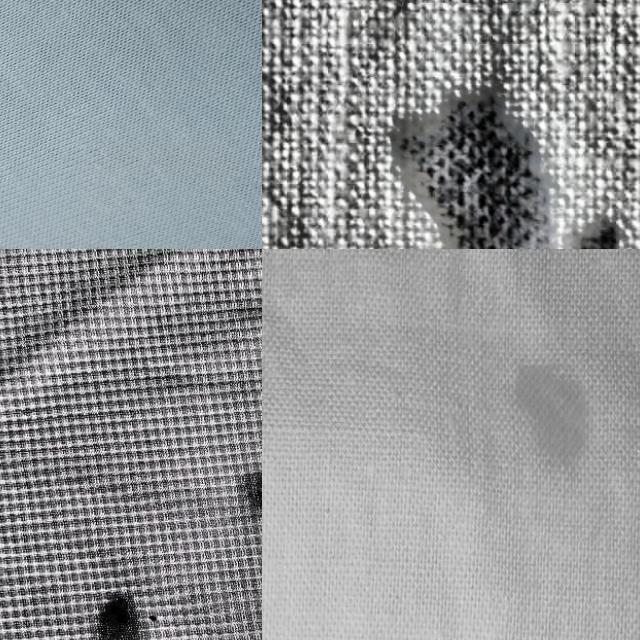Hole: (360, 55, 640, 249), (466, 280, 640, 542), (44, 556, 181, 640), (196, 433, 262, 555)
